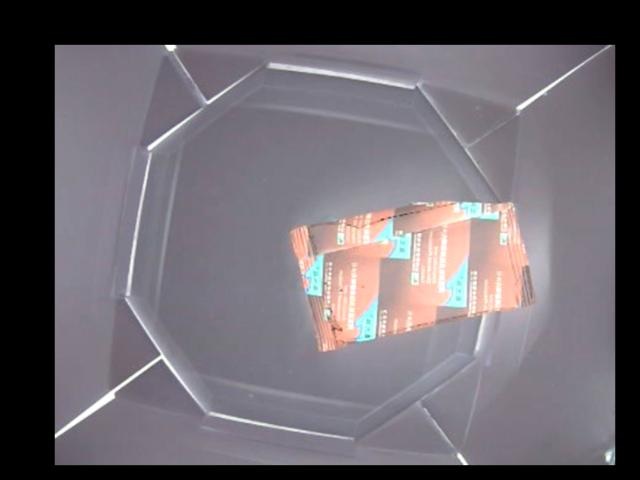Medicine: (288, 198, 538, 349)
